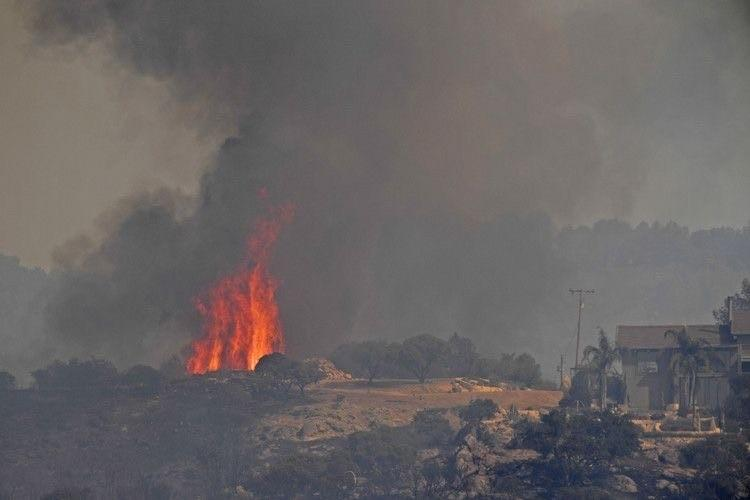fire: (187, 259, 288, 398)
smoke: (41, 5, 594, 257)
